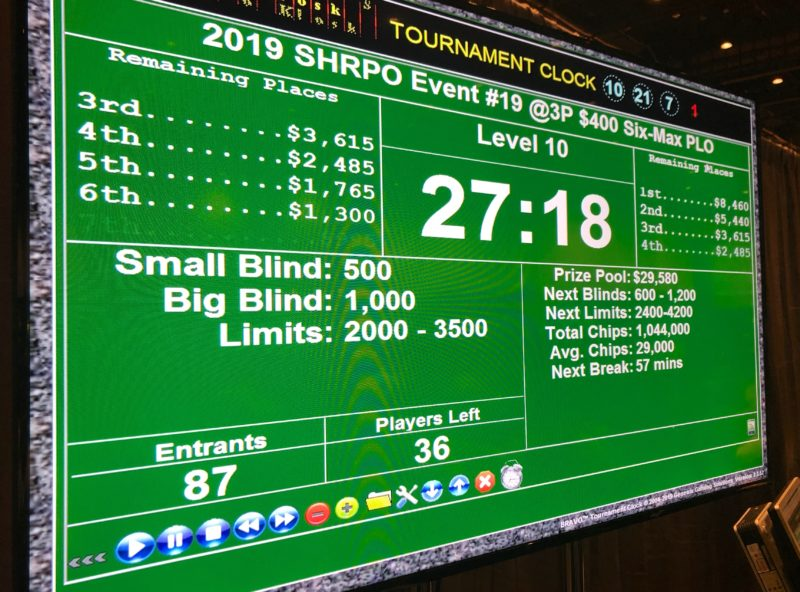PlayersLeft: (315, 394, 531, 487)
Remaining: (56, 46, 390, 259), (625, 146, 762, 270)
TournamentClock: (61, 10, 774, 510)
